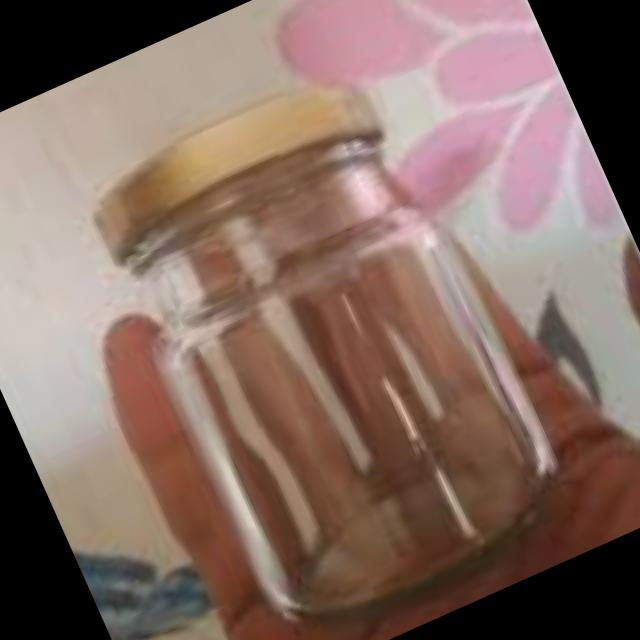ToplesKaca: (66, 42, 591, 640)
